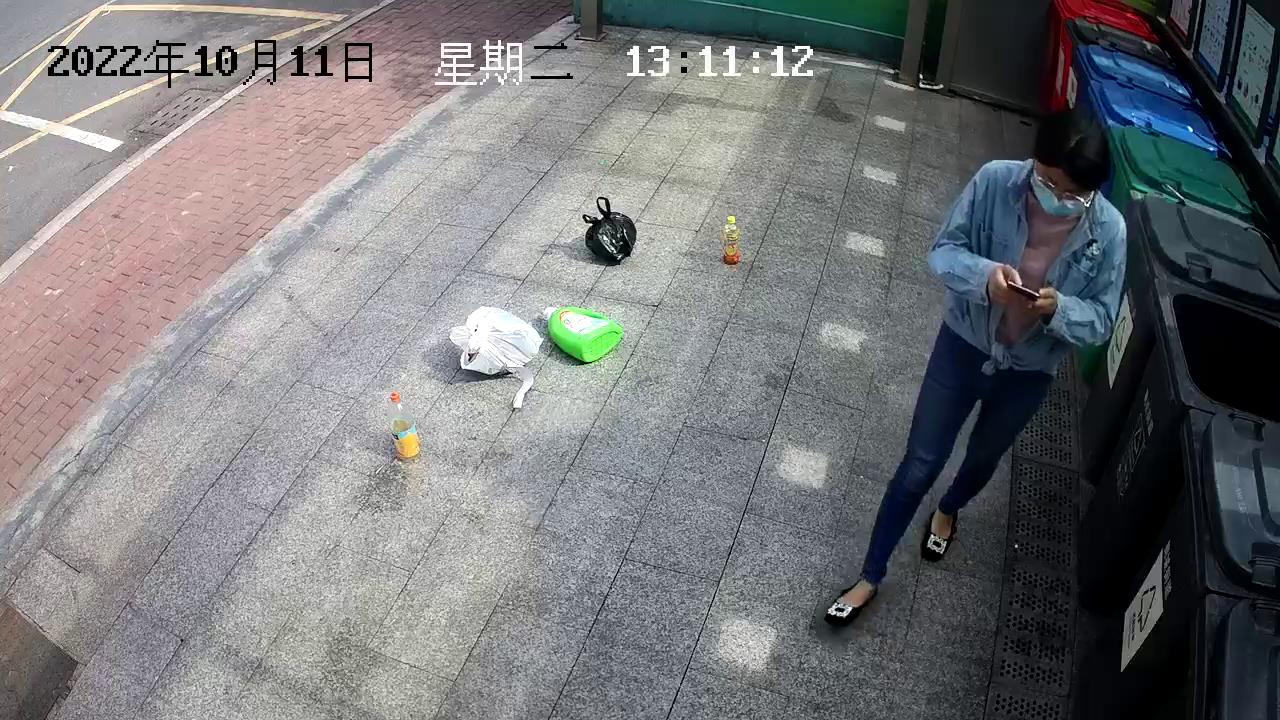garbage-bag: (446, 302, 546, 382), (580, 194, 639, 267)
suliaozhipin: (540, 302, 628, 366), (385, 387, 425, 466), (721, 211, 743, 267)
worker: (820, 108, 1132, 636)
